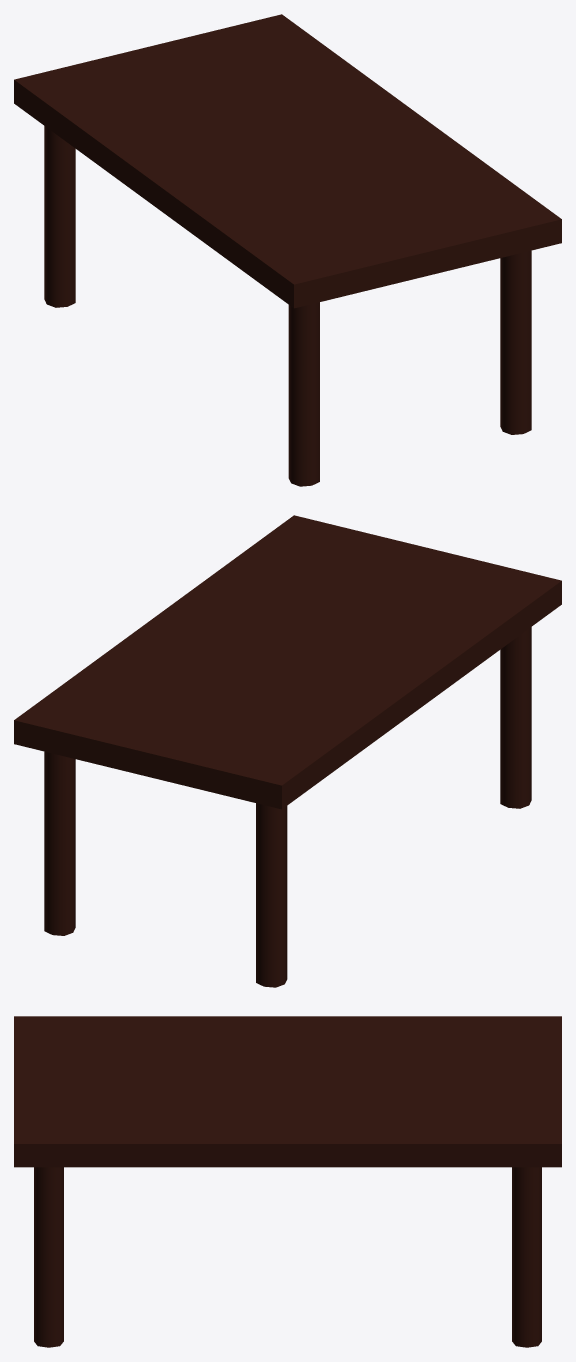
The model's file is desk.fbx.
The picture shows the model from 3 angles, top to bottom: view 1: azimuth 30°, elevation 25°; view 2: azimuth 150°, elevation 25°; view 3: azimuth 270°, elevation 25°; orthographic projection. The views are drawn at different scales.
Visible parts, largest first — view 1: desk_combined; view 2: desk_combined; view 3: desk_combined.
Boxes of the visible parts, x1,y1,x2,y2 form: desk_combined: (14, 14, 561, 486); desk_combined: (14, 515, 561, 987); desk_combined: (14, 1016, 561, 1347).
Bounding box in the file's own units: 5.06 × 3.89 × 9.17.
